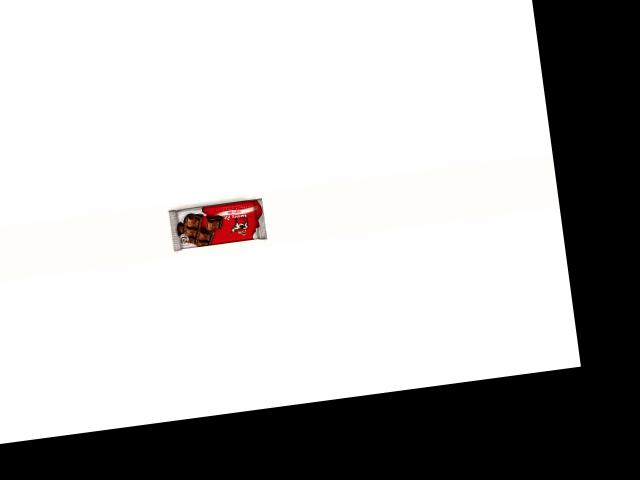chocolate: (163, 173, 282, 246)
